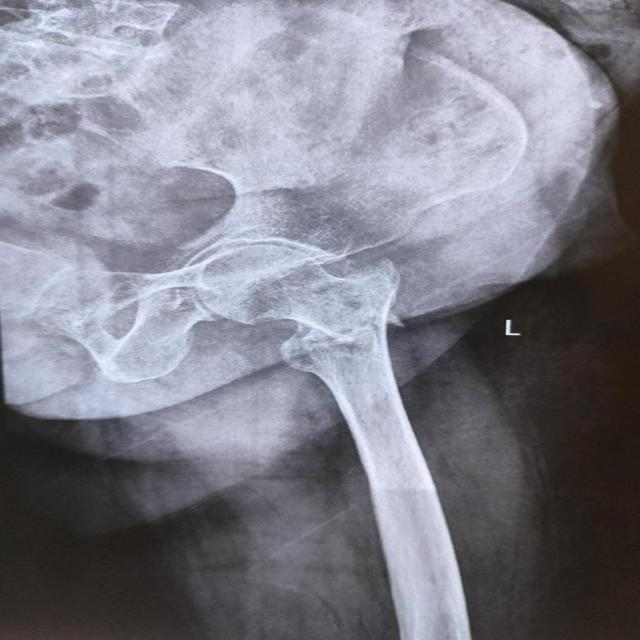left-neck: (279, 258, 403, 408), (195, 245, 372, 344)
